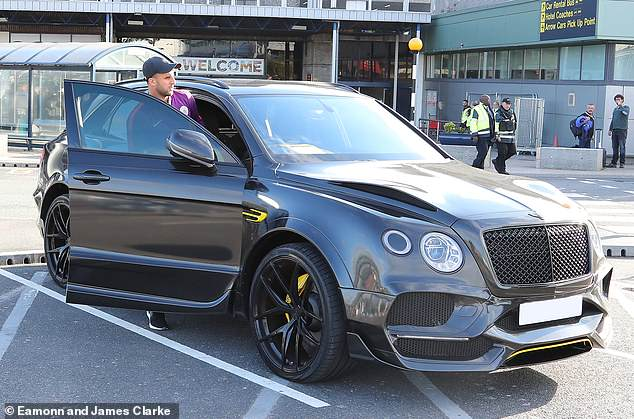Carro: (34, 64, 619, 390)
